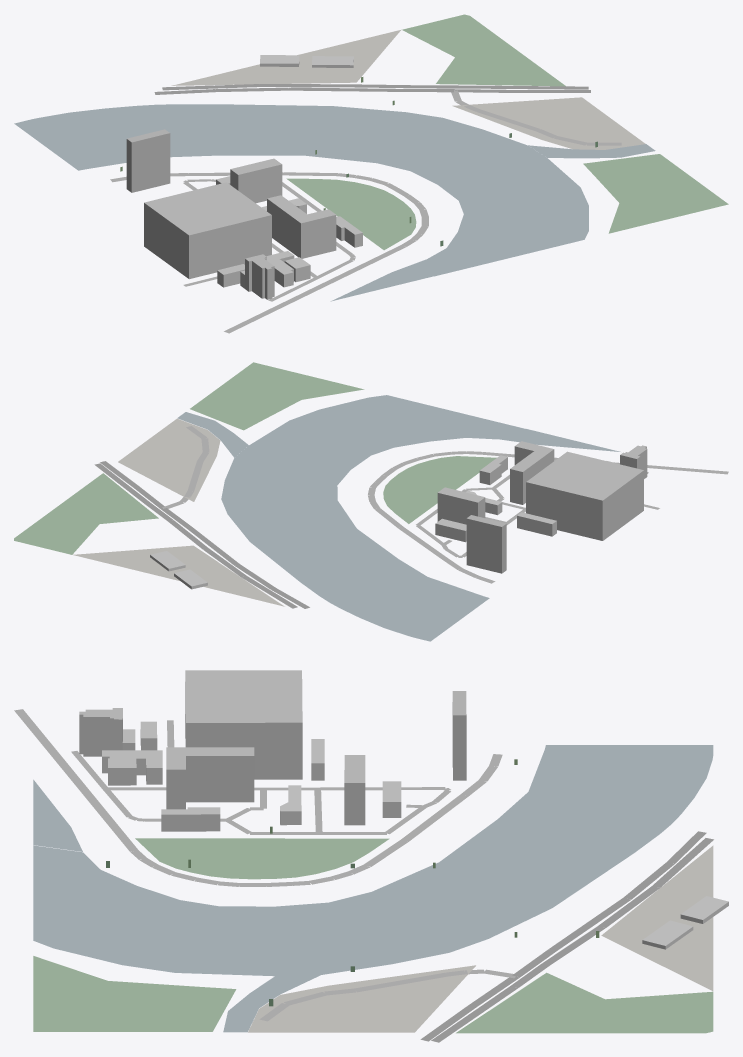
3 renders of one model, top to bottom at view 1: azimuth 30°, elevation 25°; view 2: azimuth 150°, elevation 25°; view 3: azimuth 270°, elevation 25°, orthographic. The views are drawn at different scales.
Size of the model in its own units: 579 by 53.73 by 526.
